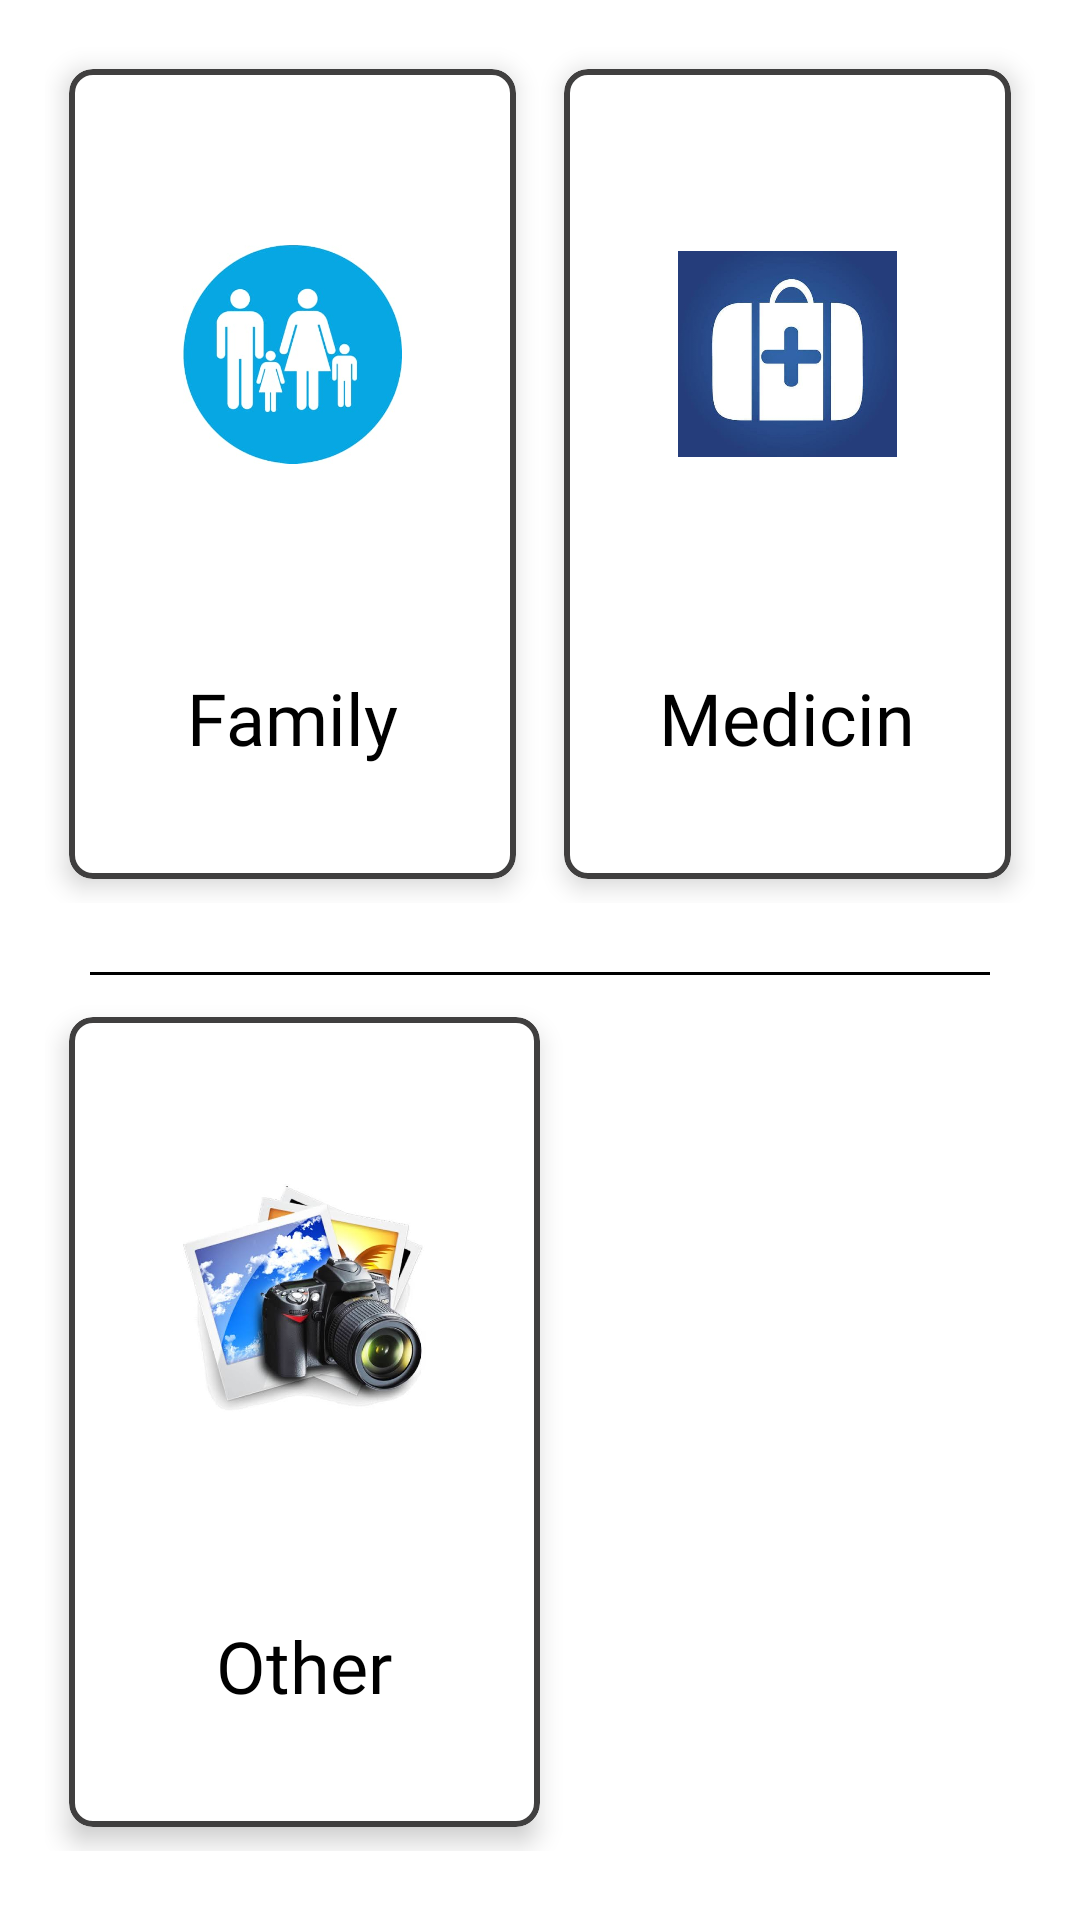

Where icons sit on this 1080 x 1920 app screen, as (x1=x1, y1=y1, x2=x2, y2=y2):
familiea: (x1=183, y1=245, x2=402, y2=464)
med: (x1=678, y1=251, x2=897, y2=457)
